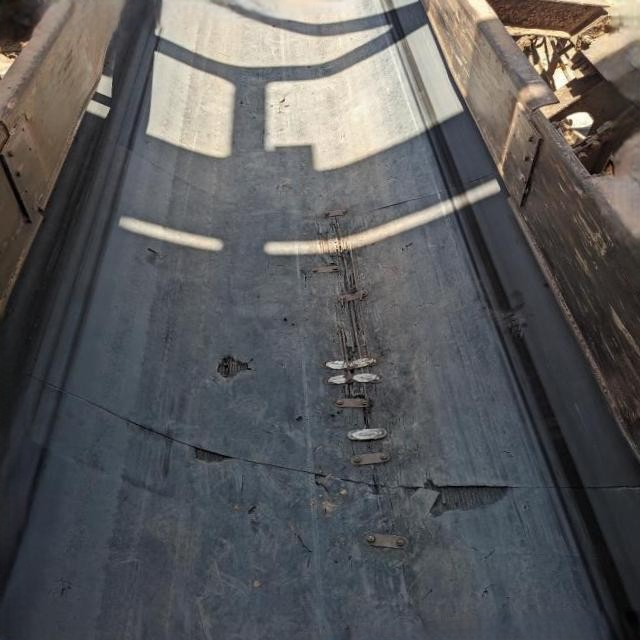Tear: (14, 361, 640, 502), (325, 221, 394, 496), (212, 345, 256, 381), (373, 192, 435, 217), (141, 238, 167, 264)
